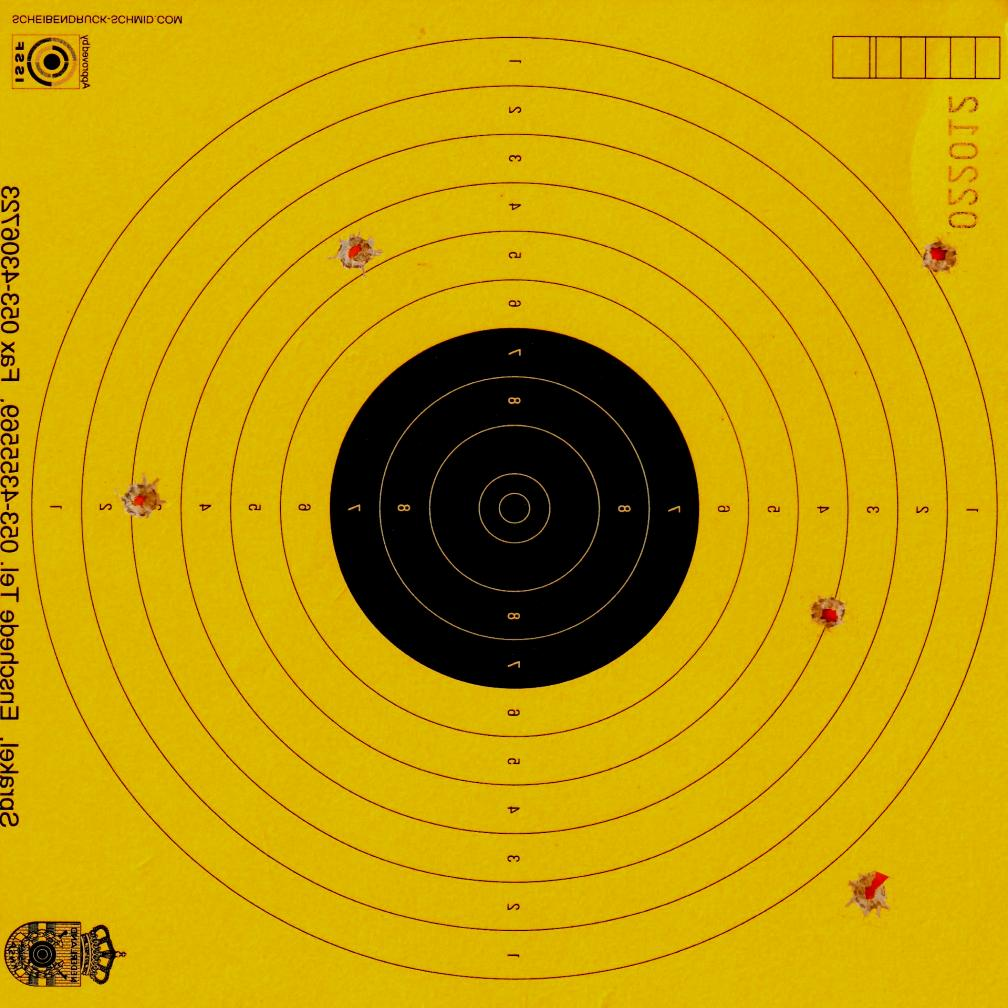0: (840, 867, 899, 921)
1: (916, 235, 959, 278)
3: (114, 472, 168, 521)
4: (806, 594, 852, 636)
5: (325, 228, 386, 278)
Target: (27, 32, 1000, 985)
black_contour: (328, 328, 699, 689)
